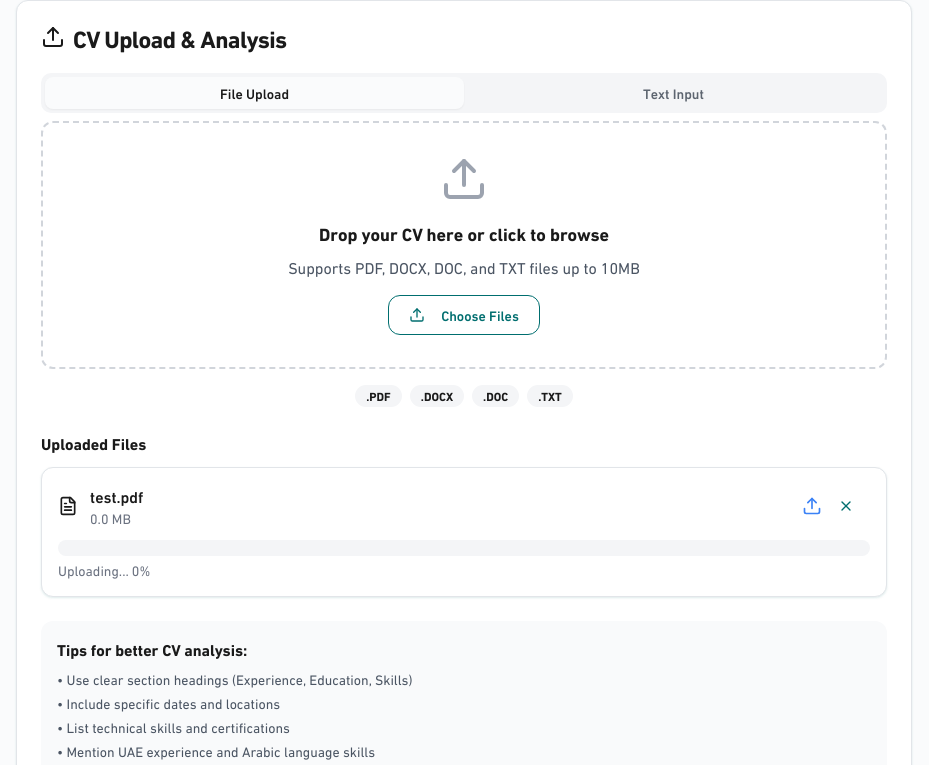
Test case: CVUploadComponent › removes an uploaded file from the list
The width and height of the screenshot is (929, 765).
Earlier steps of the test are not shown.
Check: the text "test.pdf" is shown, box [90,484,143,507]
Click the button named "remove" at coordinates (846, 506), box [822,488,870,524]
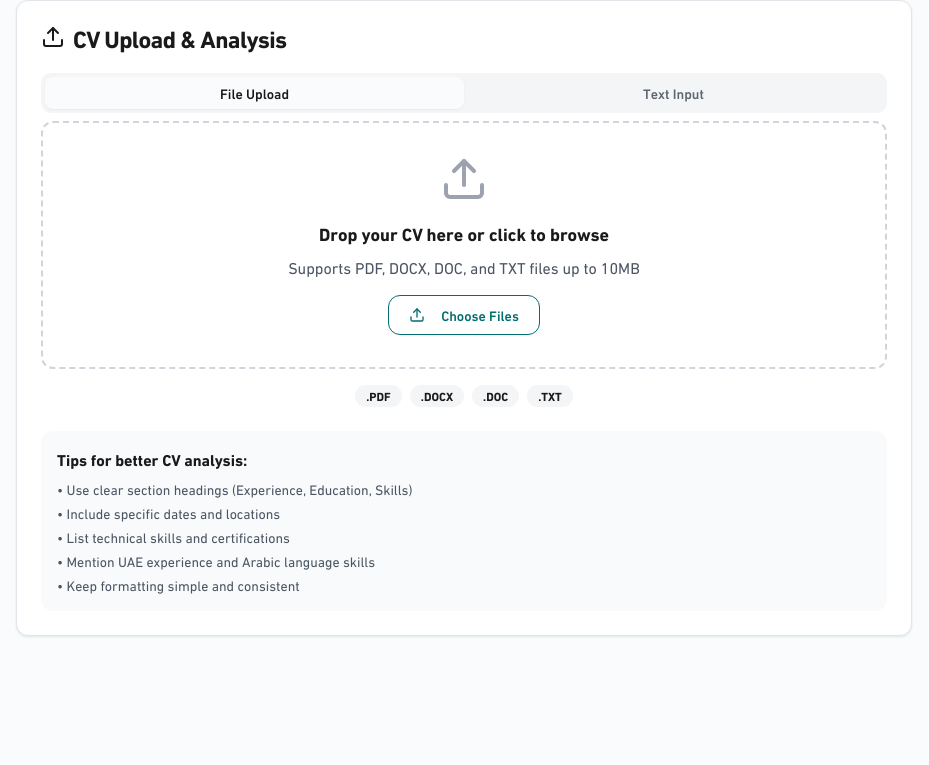
Check: the text "test.pdf" is gone
